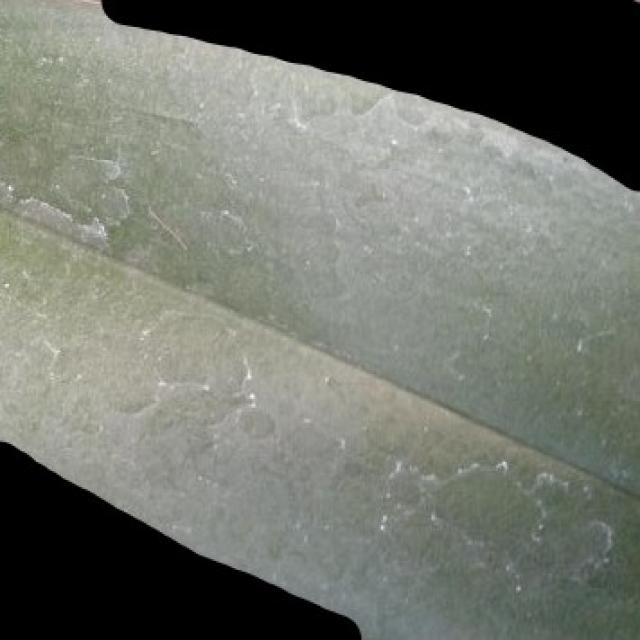mite: (43, 144, 135, 230), (234, 404, 277, 442)
